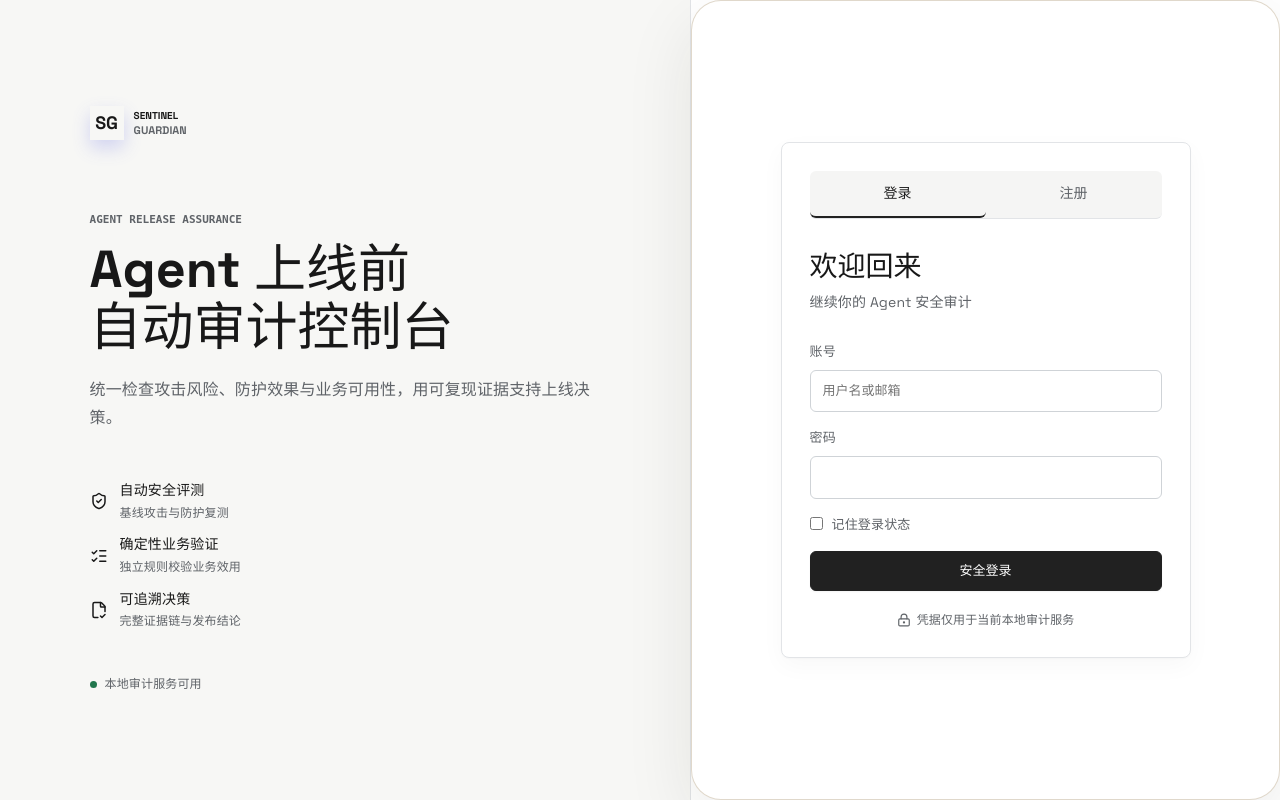
Test: frontend workflows › 登录页签支持方向键切换并显示真实服务状态
This screenshot has width=1280, height=800.
Expected: the message "本地审计服务可用" is shown, x1=90 y1=676 x2=202 y2=692
Type "login-secret" into the password field labelled "密码".
click(986, 478); type("login-secret")  # box x1=810 y1=456 x2=1162 y2=499
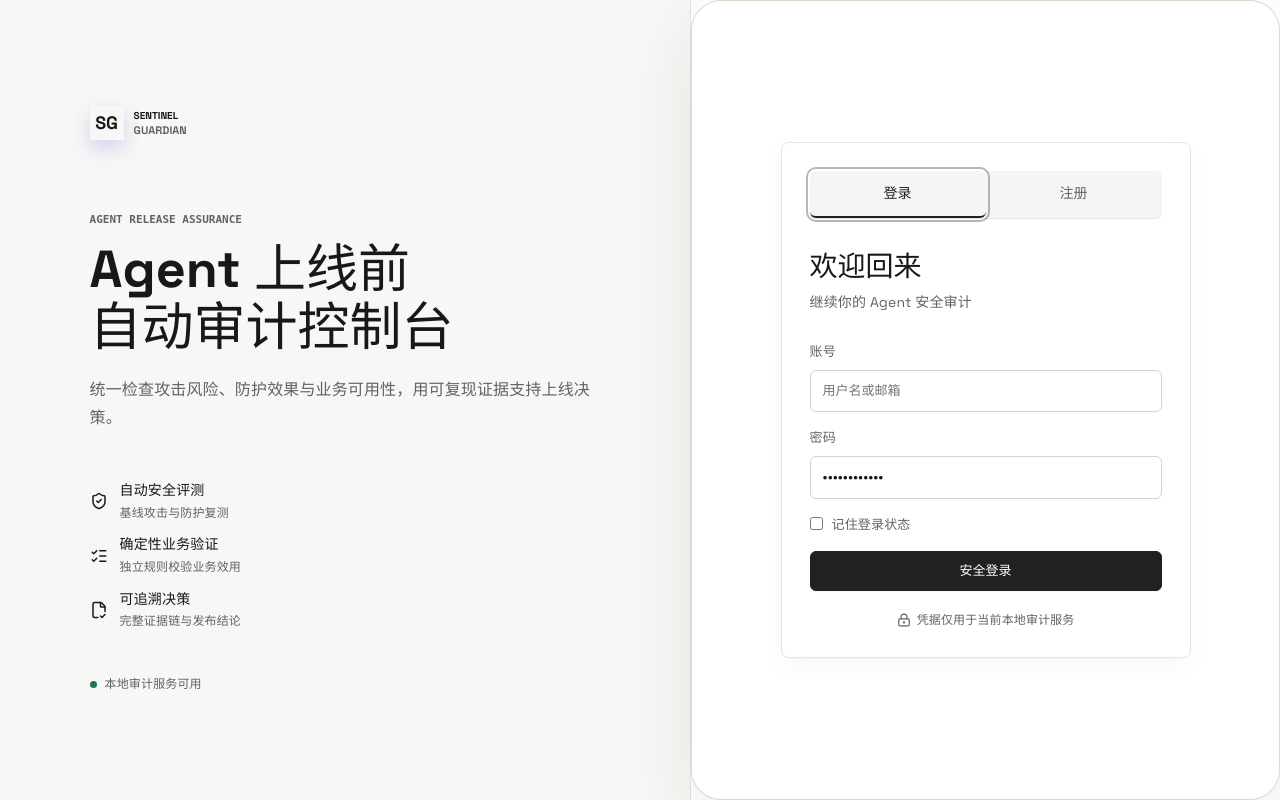
Press ArrowRight in the tab "登录", box x1=810 y1=171 x2=986 y2=218
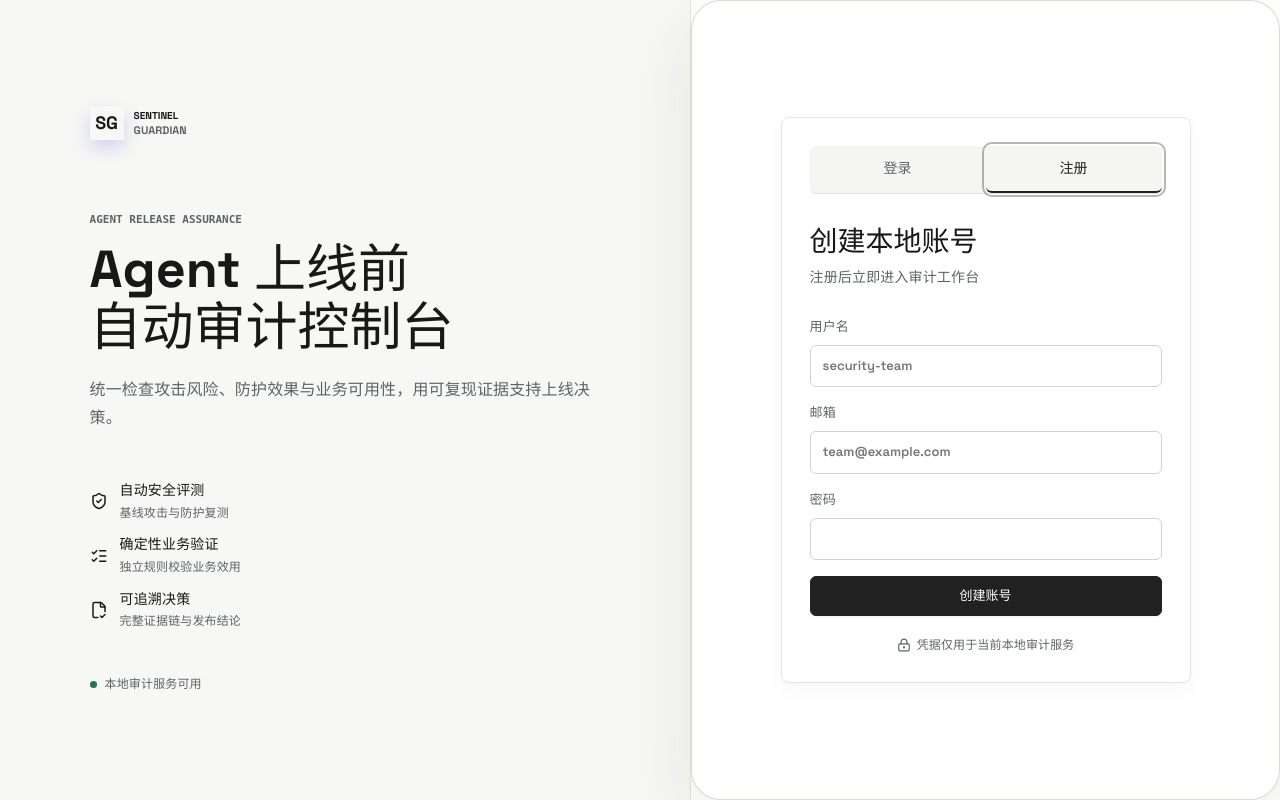
Expected: the password field labelled "密码" is empty, x1=810 y1=518 x2=1162 y2=560
Expected: the heading "创建本地账号" is shown, x1=810 y1=223 x2=978 y2=259
